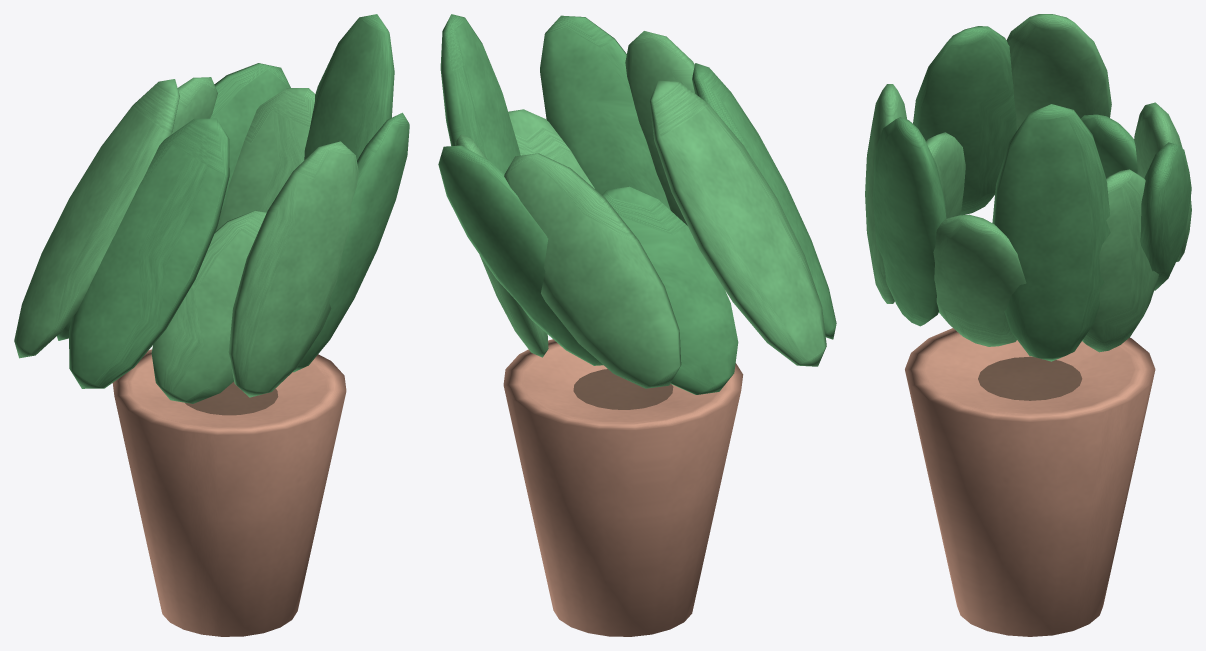
The model's file is plant.glb.
The picture shows the model from 3 angles, left to right: view 1: azimuth 30°, elevation 25°; view 2: azimuth 150°, elevation 25°; view 3: azimuth 270°, elevation 25°; orthographic projection. The views are drawn at different scales.
Visible parts, largest first — view 1: plant_body; view 2: plant_body; view 3: plant_body.
Boxes of the visible parts, x1,y1,x2,y2 form: plant_body: [14, 14, 409, 636]; plant_body: [438, 14, 836, 636]; plant_body: [865, 14, 1191, 636].
Size of the model in its own units: 0.8557 by 1.23 by 0.6259.
4 materials, 4 textured.
